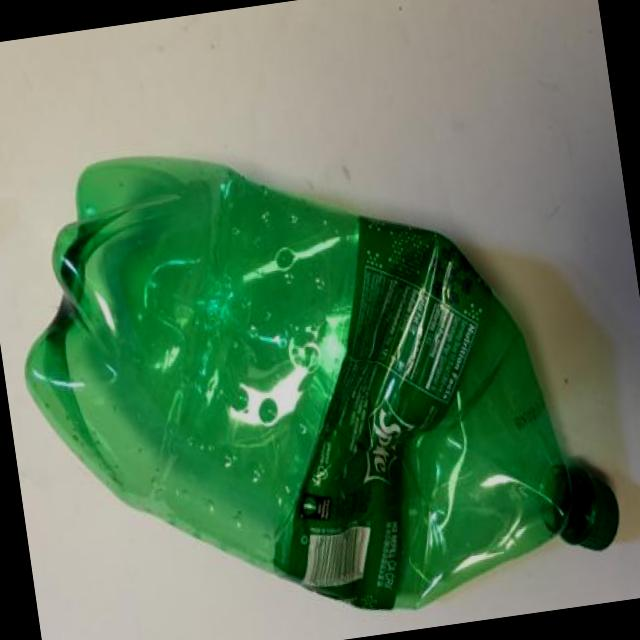Recycle: (0, 92, 629, 640)
